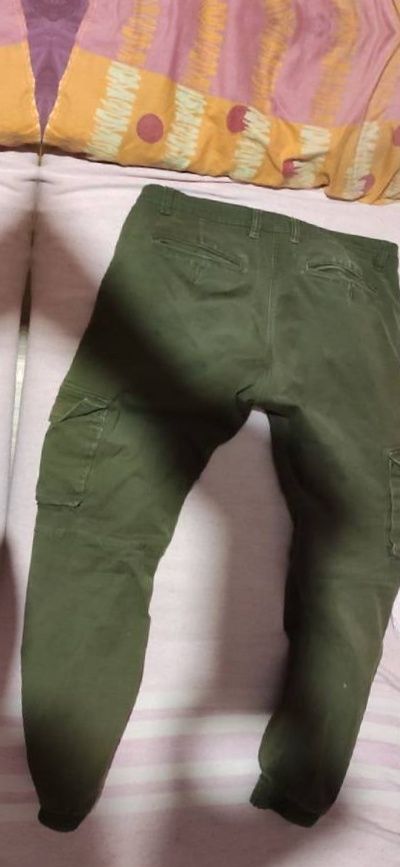Pants: (0, 144, 400, 867), (0, 104, 31, 831)
